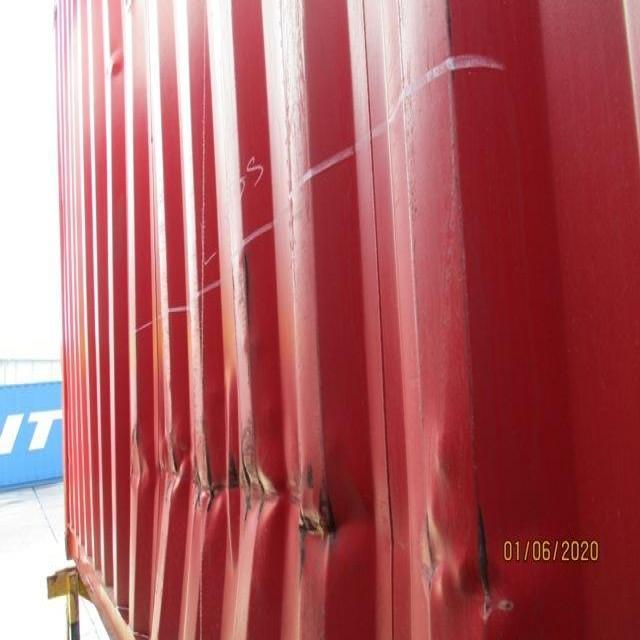dent: (113, 376, 588, 637)
